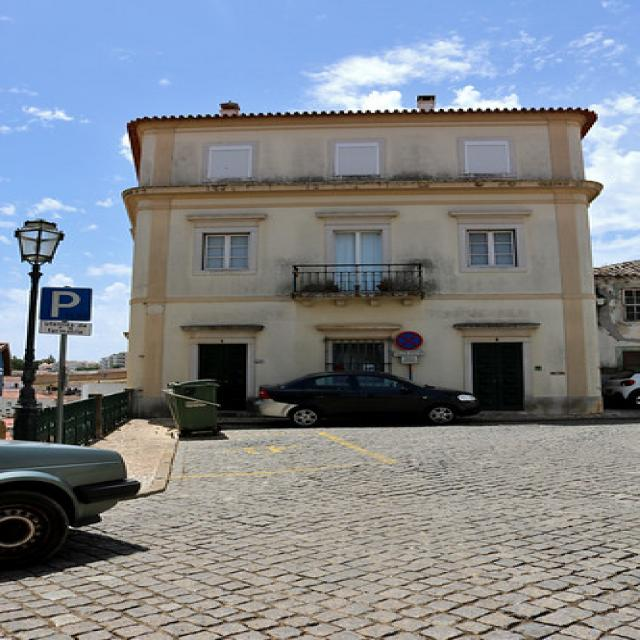Normal_building: (116, 95, 608, 422)
